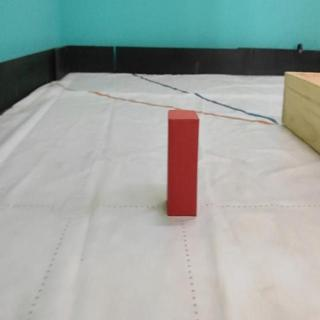redbox: (167, 107, 200, 219)
